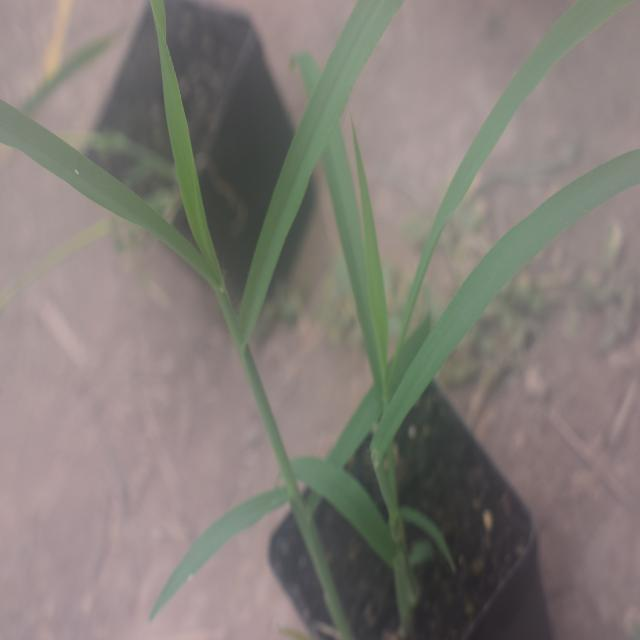crabgrass: (248, 6, 620, 548), (0, 24, 300, 480)
